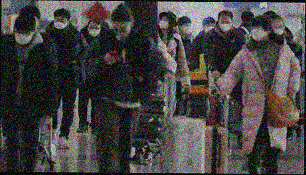with_mask: (112, 24, 131, 42), (14, 28, 33, 45), (248, 24, 266, 41), (272, 22, 287, 37), (52, 16, 68, 30), (87, 25, 102, 38), (158, 16, 171, 30), (219, 18, 231, 32), (181, 22, 192, 35), (204, 22, 216, 33)
